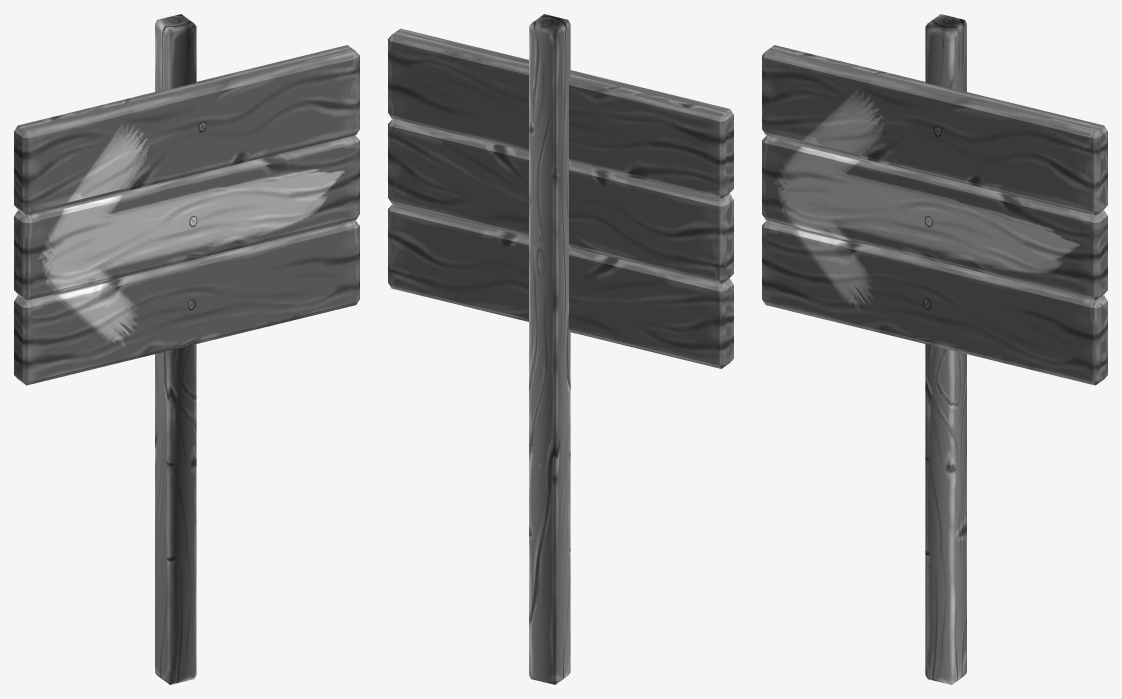
Rendered from SM_Panneau_Gauche.FBX.
3 views of the same model, side by side, from view 1: azimuth 30°, elevation 25°; view 2: azimuth 150°, elevation 25°; view 3: azimuth 330°, elevation 25° (orthographic).
Visible parts, largest first — view 1: WoodPlank_LP010; view 2: WoodPlank_LP010; view 3: WoodPlank_LP010.
Part boxes in pixels (x1=…): WoodPlank_LP010: x1=14, y1=14, x2=359, y2=684; WoodPlank_LP010: x1=388, y1=14, x2=733, y2=684; WoodPlank_LP010: x1=762, y1=14, x2=1107, y2=684.
Size of the model in its own units: 60.9 by 113 by 7.96.
